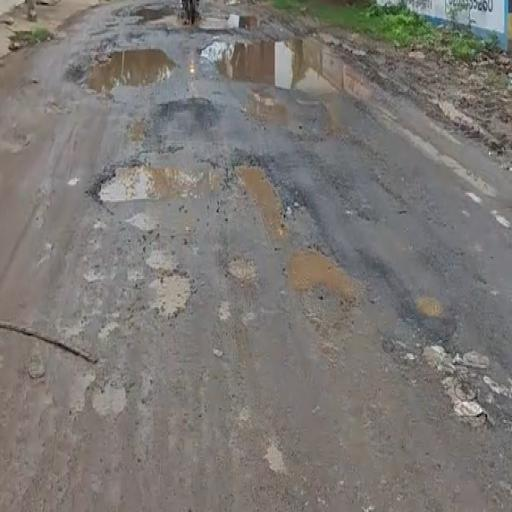pothole: (74, 118, 448, 372), (52, 5, 181, 104), (206, 27, 366, 106)
